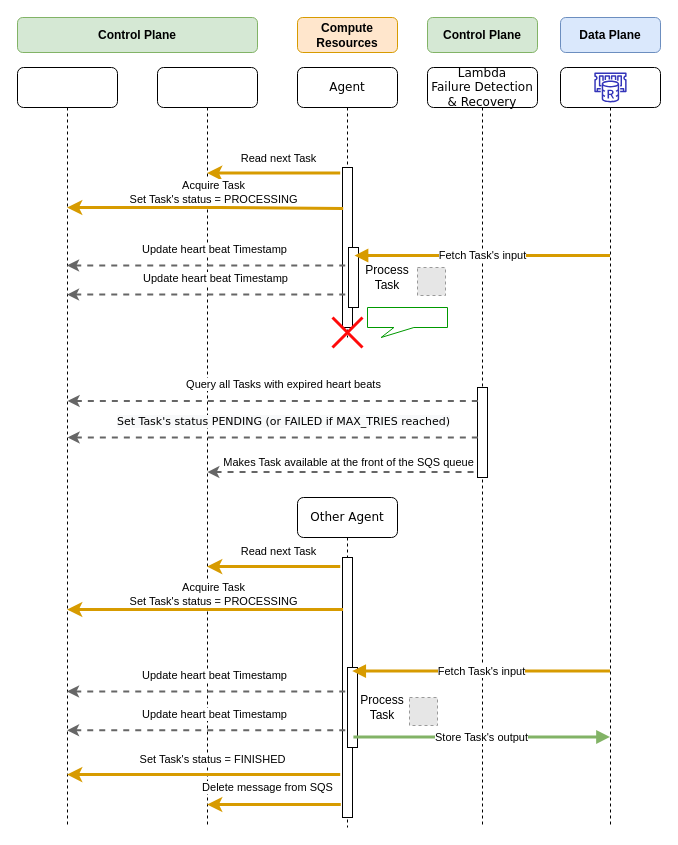
Image size: 678x845. Some labels were removed from this diagram. Grey dashed boxes stand in for pictures. Here are the shapes that lost their labels. From the top down, the centre of each, then its label:
At [407,322]: "Process Failed".
At [67,447]: "DynamoDB".
At [207,447]: "SQS".
